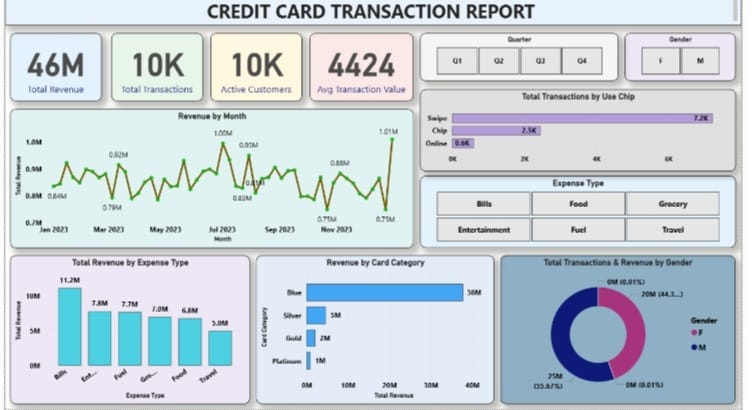

The dashboard page shown, as its layout file describes it:
{"tool":"powerbi","page":{"name":"Credit Card Transaction","canvas":[1280,720],"ordinal":1},"visuals":[{"type":"card","fields":{"Values":["CreditCard.Total Revenue"]},"box":[8.7,65.9,159.2,118.2],"z":0},{"type":"card","fields":{"Values":["CreditCard.Total Transactions"]},"box":[184.1,65.9,159.2,118.2],"z":1000},{"type":"card","fields":{"Values":["CreditCard.Active Customers"]},"box":[357,65.9,159.2,118.2],"z":2000},{"type":"card","fields":{"Values":["CreditCard.Average Transaction Value"]},"box":[529.9,65.9,180.4,118.2],"z":3000},{"type":"textbox","box":[0,0,1280,52.5],"z":4000},{"type":"lineChart","title":"Revenue by Month","fields":{"Y":["CreditCard.Total Revenue"],"Category":["DateTable.Date"]},"box":[8.7,197.8,701.6,241.3],"z":5000},{"type":"slicer","title":"Gender","fields":{"Values":["customer.Gender"]},"box":[1077.3,65.9,192.8,83.3],"z":6000},{"type":"clusteredColumnChart","title":"Total Revenue by Expense Type","fields":{"Category":["CreditCard.Exp Type"],"Y":["CreditCard.Total Revenue"]},"box":[8.7,452.8,416.7,258.7],"z":7000},{"type":"donutChart","title":"Total Transactions & Revenue by Gender","fields":{"Y":["CreditCard.Total Transactions","CreditCard.Total Revenue"],"Category":["customer.Gender"]},"box":[861.2,452.5,408.8,258.8],"z":8000},{"type":"slicer","title":"Quarter","fields":{"Values":["DateTable.Quarter"]},"box":[721.5,65.9,344.6,83.3],"z":9000},{"type":"slicer","title":"Expense Type","fields":{"Values":["CreditCard.Exp Type"]},"box":[721.2,313.8,548.8,125],"z":10000},{"type":"clusteredBarChart","fields":{"Category":["CreditCard.Use Chip"],"Y":["CreditCard.Total Transactions"]},"box":[721.2,163.8,548.8,142.5],"z":11000},{"type":"clusteredBarChart","title":"Revenue by Card Category","fields":{"Category":["CreditCard.Card_Category"],"Y":["CreditCard.Total Revenue"]},"box":[436.2,452.5,413.8,258.8],"z":12000}]}

Visuals, with their boxes in screenshot pixels (x1, y1, x2, y2):
card - CreditCard.Total Revenue: 5,29,98,97
card - CreditCard.Total Transactions: 107,29,200,97
card - CreditCard.Active Customers: 207,29,300,97
card - CreditCard.Average Transaction Value: 308,29,413,97
textbox: 0,0,744,21
"Revenue by Month" lineChart: 5,105,413,245
"Gender" slicer: 626,29,738,77
"Total Revenue by Expense Type" clusteredColumnChart: 5,253,247,404
"Total Transactions & Revenue by Gender" donutChart: 501,253,738,404
"Quarter" slicer: 419,29,620,77
"Expense Type" slicer: 419,173,738,245
clusteredBarChart - CreditCard.Use Chip x CreditCard.Total Transactions: 419,85,738,168
"Revenue by Card Category" clusteredBarChart: 254,253,494,404
